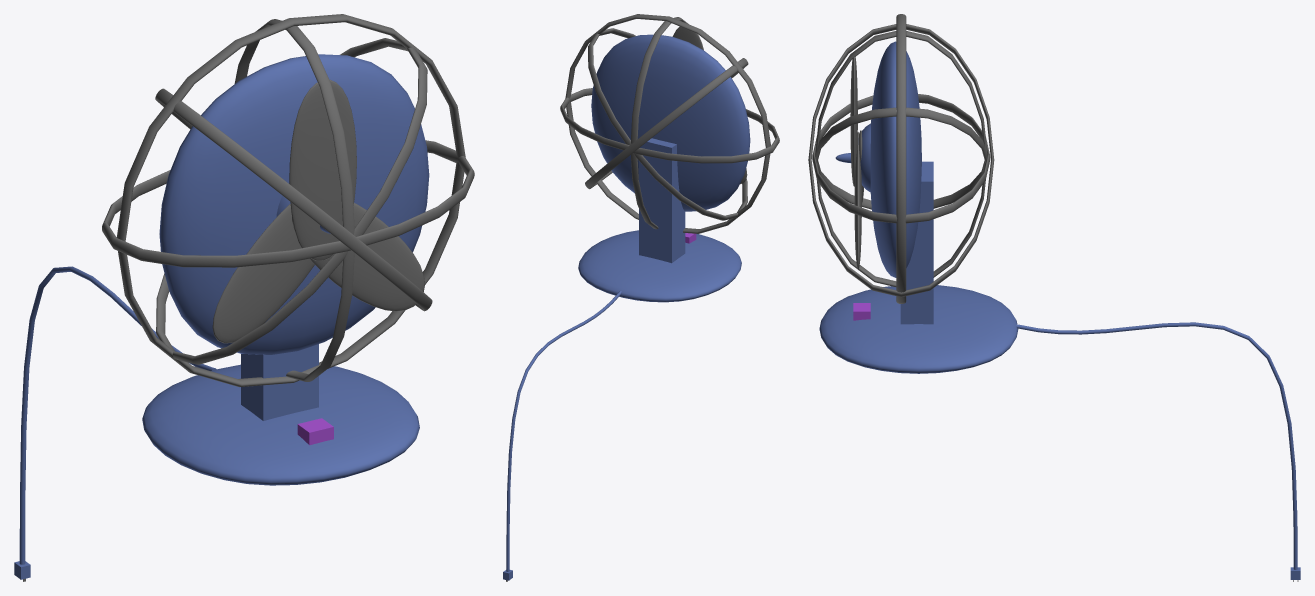
Rendered from FanWithCordModel.fbx.
3 renders of one model, left to right at view 1: azimuth 30°, elevation 25°; view 2: azimuth 150°, elevation 25°; view 3: azimuth 270°, elevation 25°, orthographic. The views are drawn at different scales.
Parts seen in each view (by area): view 1: pCube3, pCube1, pTorus1, pCube8, pCube6, pTorus3, pTorus4, pTorus2, pTorus5, pCube2, pCube7, pCylinder1 (+1 smaller); view 2: pCube3, pCube1, pCube2, pTorus1, pTorus3, pTorus4, pTorus5, pTorus2, pCylinder1; view 3: pCube1, pCube3, pTorus5, pCube2, pTorus1, pTorus3, pTorus2, pTorus4, pCylinder1, pCube8, pCube7.
Part boxes in pixels (x1=…): pCube3: x1=159, y1=54, x2=429, y2=354; pCube1: x1=142, y1=364, x2=419, y2=485; pTorus1: x1=116, y1=14, x2=465, y2=387; pCube8: x1=289, y1=79, x2=356, y2=260; pCube6: x1=212, y1=204, x2=314, y2=343; pTorus3: x1=102, y1=140, x2=474, y2=267; pTorus4: x1=156, y1=38, x2=427, y2=364; pTorus2: x1=234, y1=19, x2=354, y2=381; pTorus5: x1=155, y1=88, x2=432, y2=311; pCube2: x1=241, y1=344, x2=318, y2=420; pCube7: x1=292, y1=203, x2=424, y2=311; pCylinder1: x1=19, y1=266, x2=216, y2=564; pCube3: x1=591, y1=34, x2=750, y2=211; pCube1: x1=578, y1=230, x2=741, y2=302; pCube2: x1=639, y1=138, x2=685, y2=263; pTorus1: x1=565, y1=14, x2=770, y2=233; pTorus3: x1=560, y1=88, x2=779, y2=163; pTorus4: x1=588, y1=28, x2=747, y2=220; pTorus5: x1=585, y1=58, x2=748, y2=189; pTorus2: x1=631, y1=17, x2=688, y2=229; pCylinder1: x1=506, y1=291, x2=621, y2=571; pCube1: x1=819, y1=285, x2=1018, y2=373; pCube3: x1=870, y1=41, x2=921, y2=277; pTorus5: x1=808, y1=24, x2=994, y2=297; pCube2: x1=900, y1=161, x2=933, y2=324; pTorus1: x1=896, y1=14, x2=906, y2=303; pTorus3: x1=812, y1=94, x2=990, y2=223; pTorus2: x1=815, y1=31, x2=987, y2=286; pTorus4: x1=815, y1=107, x2=987, y2=209; pCylinder1: x1=1016, y1=322, x2=1297, y2=569; pCube8: x1=850, y1=57, x2=857, y2=186; pCube7: x1=854, y1=132, x2=861, y2=269.
Size of the model in its own units: 1.1 by 2.27 by 1.82.
